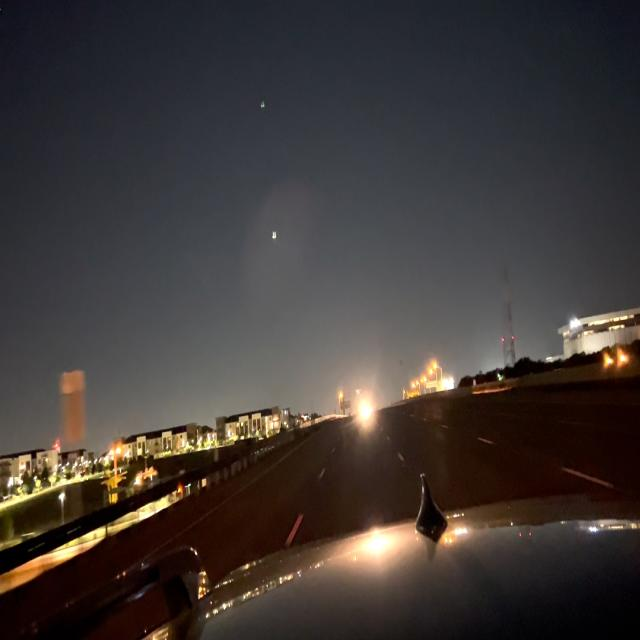back-of-sign: (63, 366, 85, 449)
